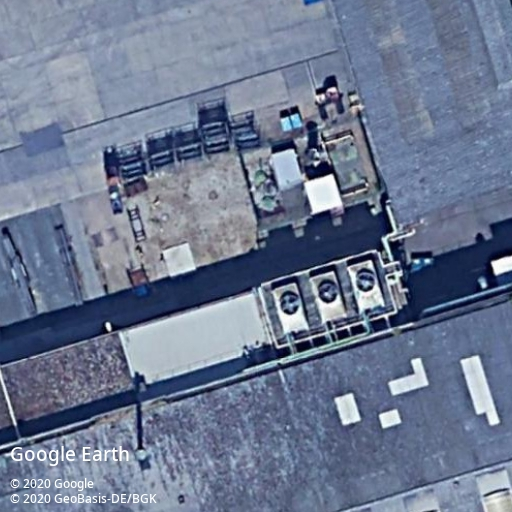Vent: (279, 294, 301, 316), (318, 282, 339, 304), (355, 272, 376, 293)
